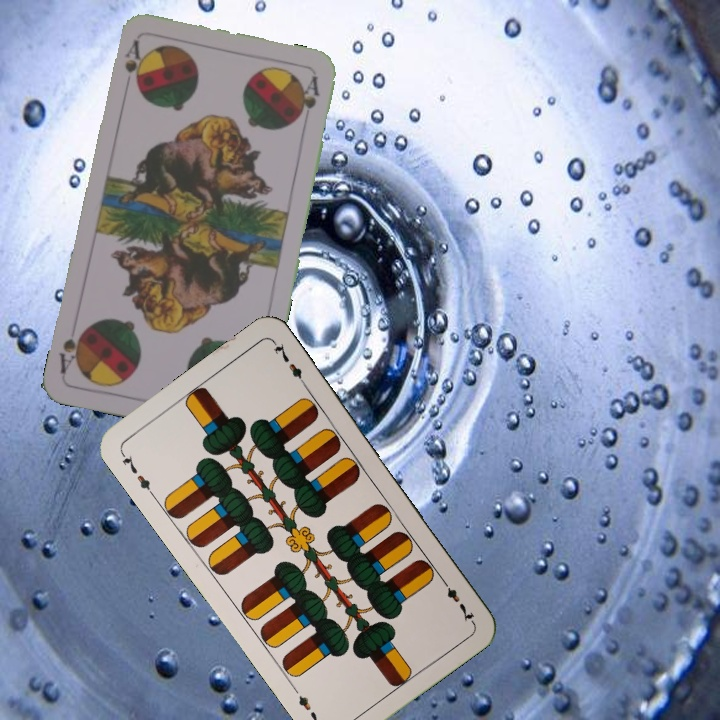E7: (117, 448, 157, 499), (437, 574, 476, 625)
SA: (120, 36, 144, 88)
